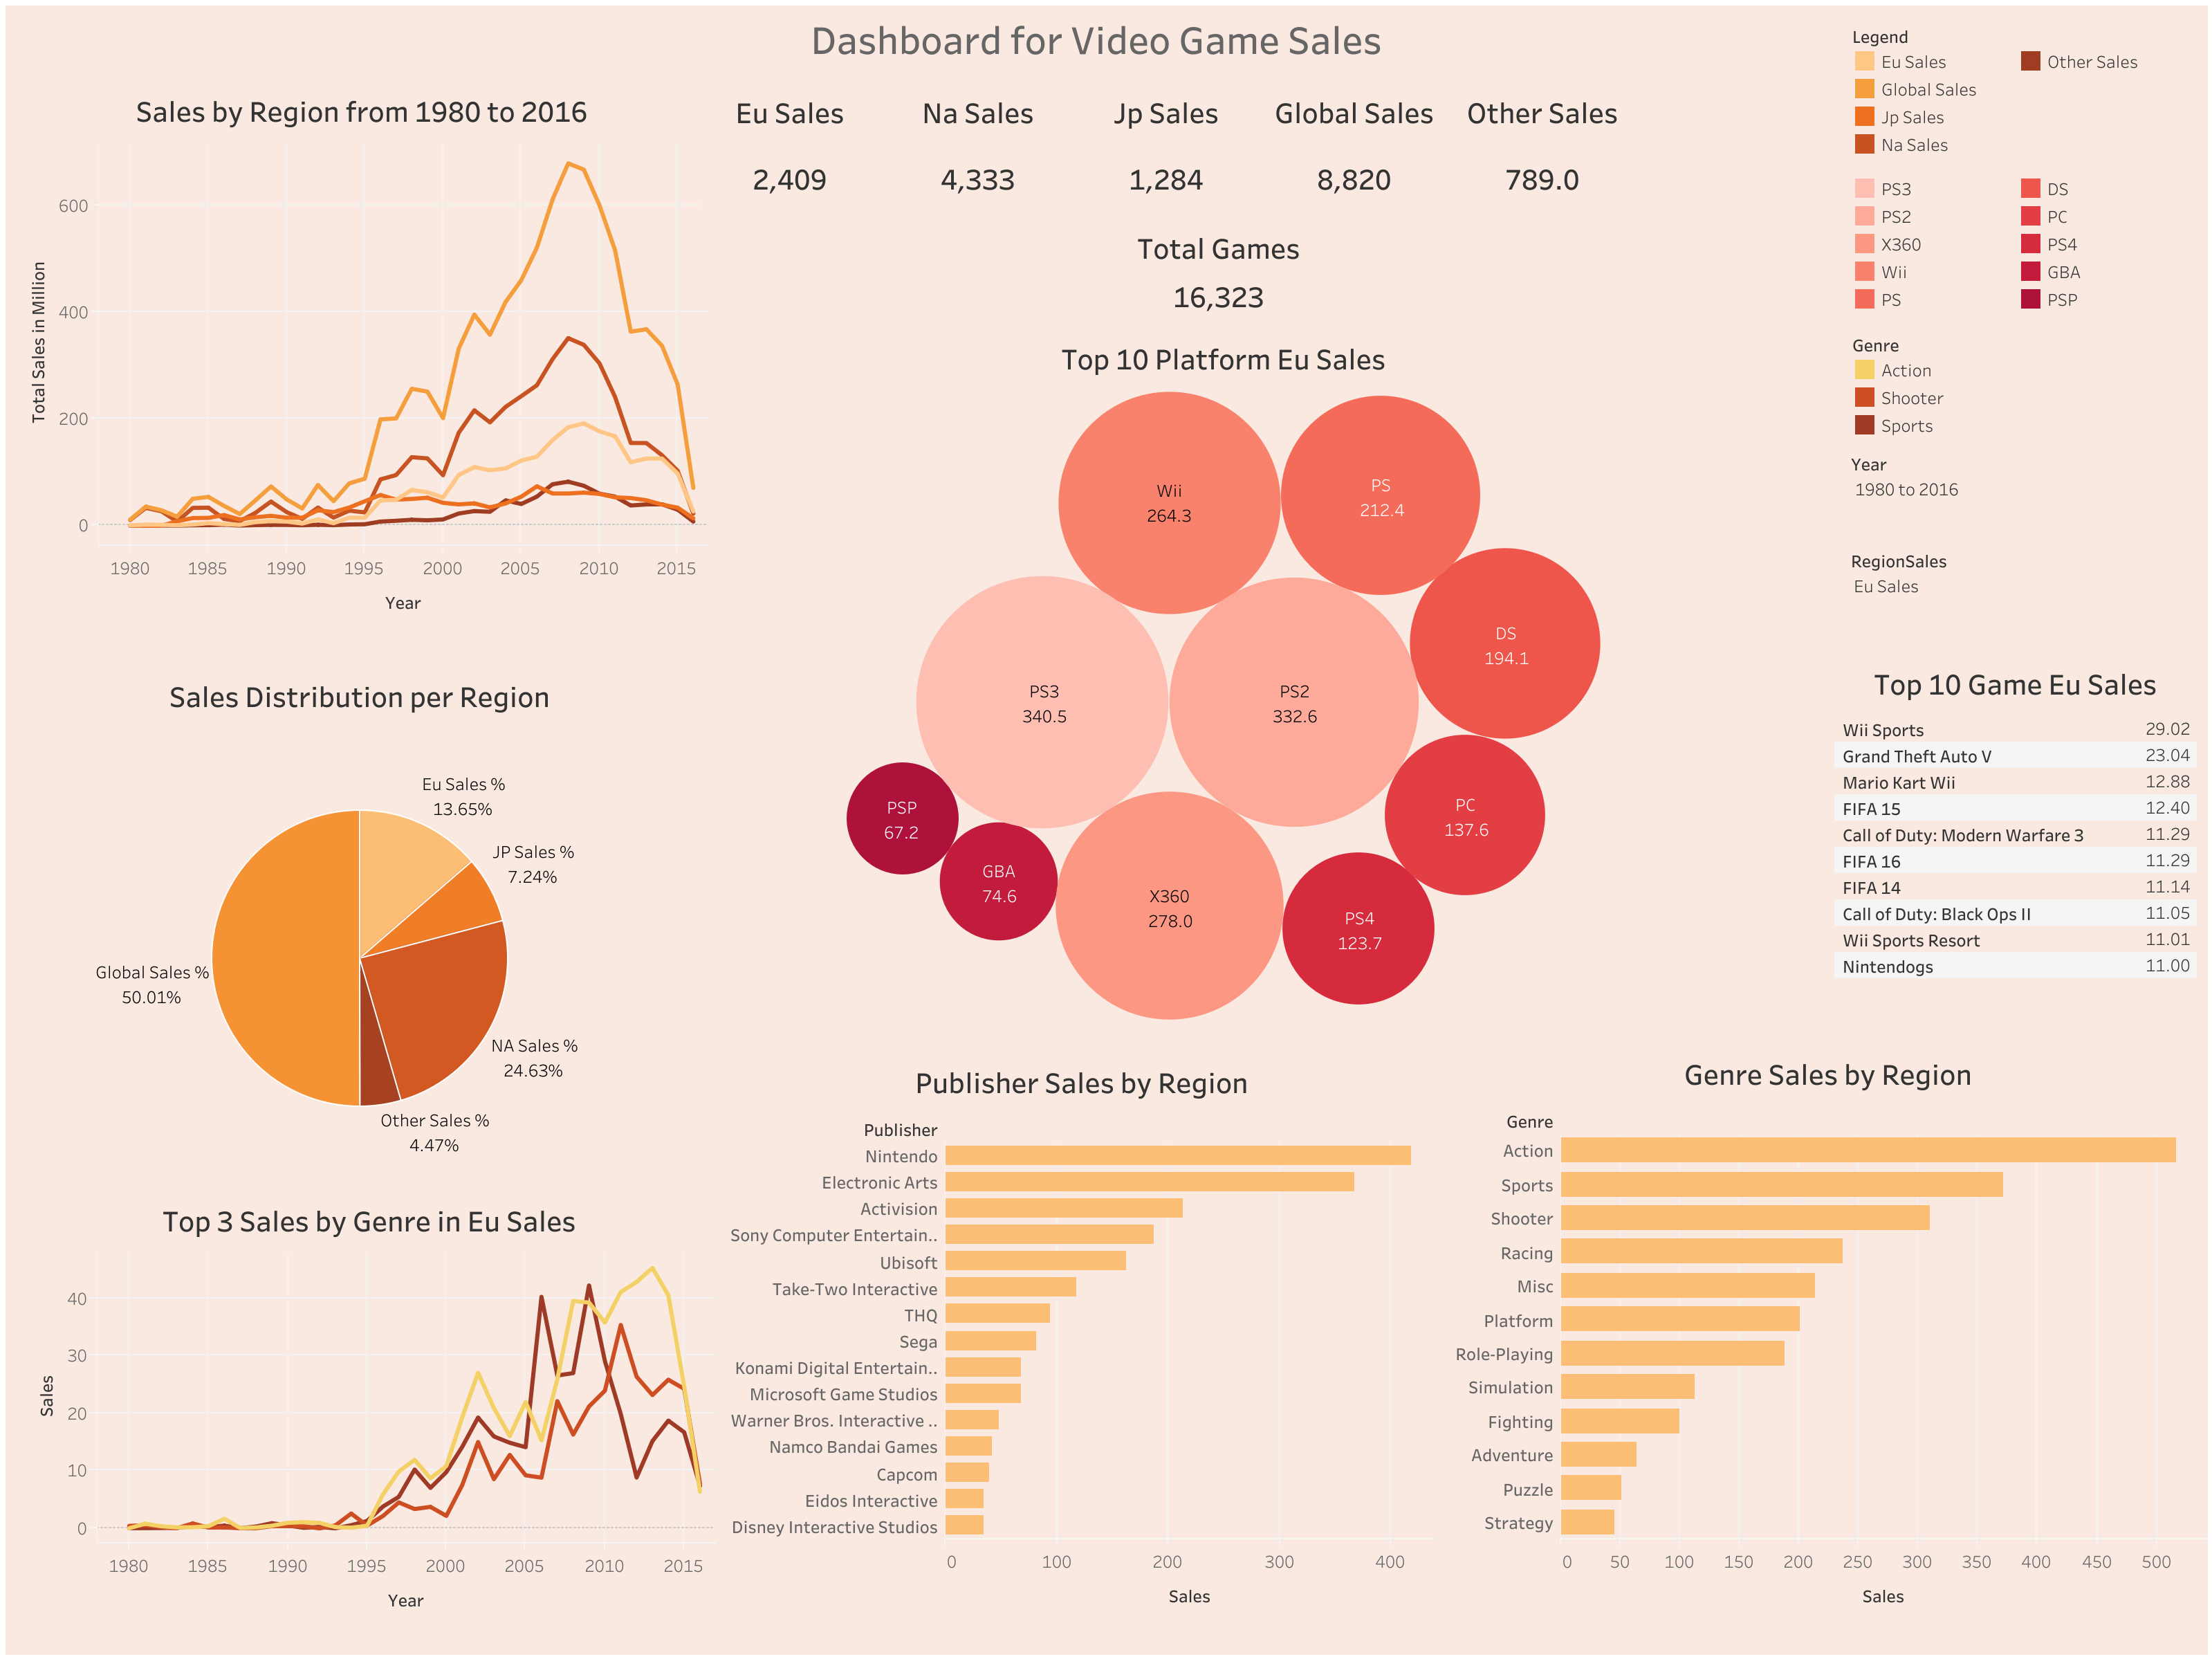

The dashboard page shown, as its layout file describes it:
{"tool":"tableau","page":{"name":"Dashboard Eu","canvas":[1600,1200],"ordinal":0},"visuals":[{"type":"blank","box":[0,0,1600,1200]},{"type":"text","box":[546.1,7,492.8,42]},{"type":"legend","title":"Sales by Region from 1980 to 2016","param":"[federated.1izo9er1fjm0se14sdik91cltok7].[:Measure Names]","box":[1334,11,258,126]},{"type":"worksheet","title":"Eu Sales","mark":"Automatic","box":[503,57,136,101]},{"type":"worksheet","title":"Na Sales","mark":"Automatic","box":[639,57,136,101]},{"type":"worksheet","title":"Jp Sales","mark":"Automatic","box":[775,57,136,101]},{"type":"worksheet","title":"Global Sales","mark":"Automatic","box":[911,57,136,101]},{"type":"worksheet","title":"Other Sales","mark":"Automatic","box":[1047,57,136,101]},{"type":"worksheet","title":"Sales by Region from 1980 to 2016","mark":"Automatic","cols":["year"],"box":[10.7,60,501.3,391]},{"type":"legend","title":"Top 10 Platform","param":"[federated.1izo9er1fjm0se14sdik91cltok7].[none:platform:nk]","box":[1334,137,258,189]},{"type":"worksheet","title":"Total Games","mark":"Automatic","box":[801,159,160,67]},{"type":"worksheet","title":"Top 10 Platform","mark":"Circle","box":[547,239,675,498]},{"type":"filter","title":"Top 10 Platform","param":"[federated.1izo9er1fjm0se14sdik91cltok7].[none:year:qk]","box":[1334,326,258,69]},{"type":"parameter","param":"[Parameters].[Parameter 1]","box":[1334,395,258,52]},{"type":"worksheet","title":"Top 10 Game","mark":"Automatic","rows":["name"],"box":[1326,474,262,233]},{"type":"worksheet","title":"Sales Distribution per Region","mark":"Pie","box":[11,483,498,376]},{"type":"worksheet","title":"Genre Sales by Region","mark":"Automatic","rows":["genre"],"box":[1048,756,547,413]},{"type":"worksheet","title":"Publisher Sales by Region","mark":"Automatic","rows":["publisher"],"box":[527,762,510,407]},{"type":"worksheet","title":"Total Games Each Year","mark":"Automatic","rows":["video_games_sales.csv_BA1943FF14934EDEBFAB6F655F775C6C"],"cols":["year"],"box":[12,888,496,278]}]}

Visuals, with their boxes in screenshot pixels (x1, y1, x2, y2), scaled from the page's 1600x1200 canvas onto the 2212x1659 screenshot:
blank: rect(0, 0, 2211, 1658)
text: rect(755, 10, 1437, 68)
"Sales by Region from 1980 to 2016" legend: rect(1844, 15, 2201, 190)
"Eu Sales" worksheet: rect(695, 79, 883, 219)
"Na Sales" worksheet: rect(883, 79, 1071, 219)
"Jp Sales" worksheet: rect(1071, 79, 1260, 219)
"Global Sales" worksheet: rect(1260, 79, 1448, 219)
"Other Sales" worksheet: rect(1448, 79, 1636, 219)
"Sales by Region from 1980 to 2016" worksheet: rect(15, 83, 708, 623)
"Top 10 Platform" legend: rect(1844, 190, 2201, 450)
"Total Games" worksheet: rect(1107, 220, 1329, 313)
"Top 10 Platform" worksheet (Circle marks): rect(756, 331, 1689, 1019)
"Top 10 Platform" filter: rect(1844, 450, 2201, 546)
parameter: rect(1844, 546, 2201, 618)
"Top 10 Game" worksheet: rect(1833, 655, 2195, 978)
"Sales Distribution per Region" worksheet (Pie marks): rect(15, 668, 703, 1188)
"Genre Sales by Region" worksheet: rect(1449, 1045, 2205, 1616)
"Publisher Sales by Region" worksheet: rect(728, 1054, 1434, 1616)
"Total Games Each Year" worksheet: rect(17, 1228, 702, 1612)
